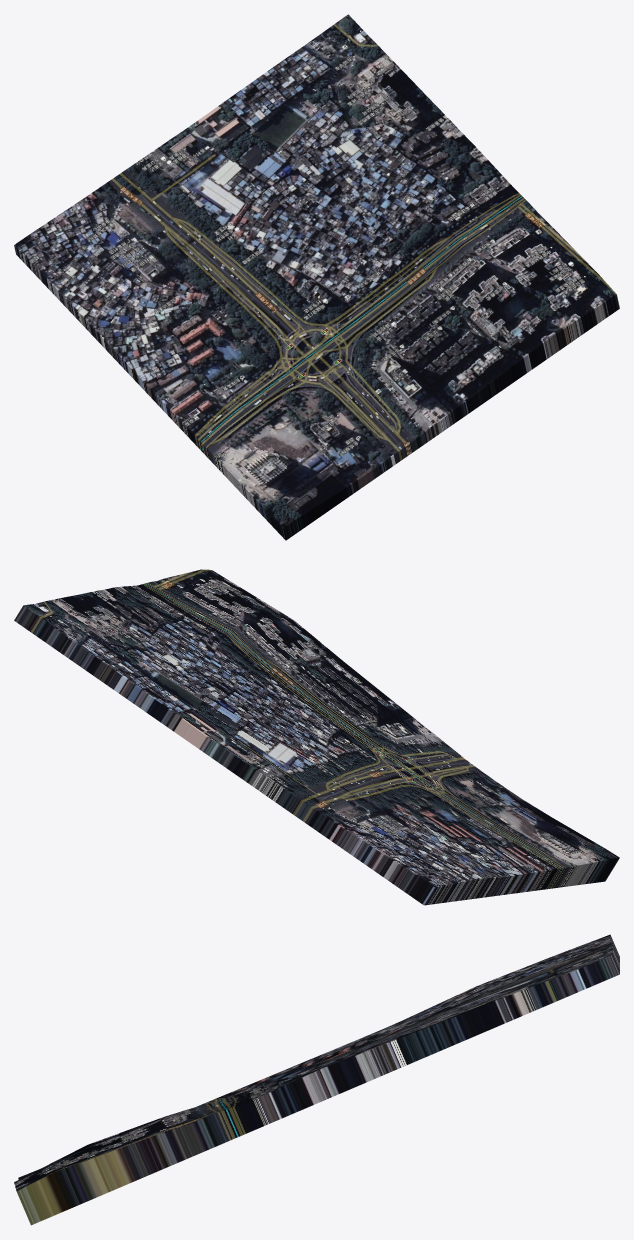
3 renders of one model, top to bottom at view 1: azimuth 30°, elevation 25°; view 2: azimuth 150°, elevation 25°; view 3: azimuth 270°, elevation 25°, orthographic. The views are drawn at different scales.
Parts seen in each view (by area): view 1: 0_15_20; view 2: 0_15_20; view 3: 0_15_20.
Boxes of the visible parts, <box> form: 0_15_20: <box>14,14,619,540</box>; 0_15_20: <box>14,569,619,905</box>; 0_15_20: <box>14,934,619,1225</box>.
Bounding box in the file's own units: 600 × 444 × 558.
1 material, 1 textured.
